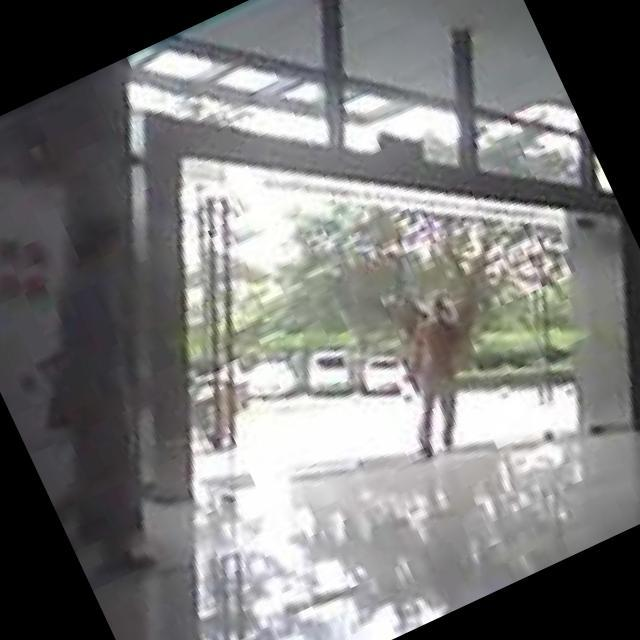person: (0, 206, 257, 578), (362, 290, 513, 466)
